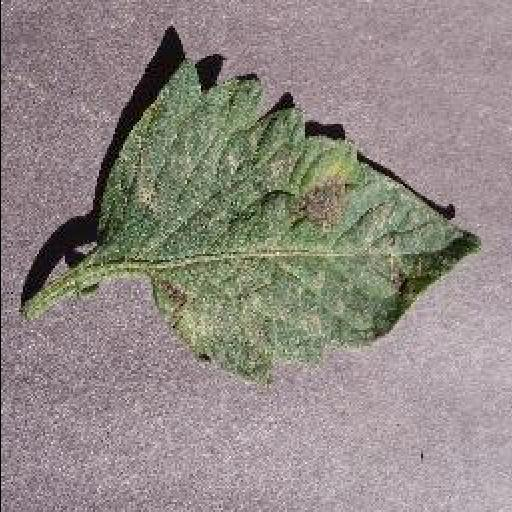disease_tomato: (100, 56, 486, 380)
